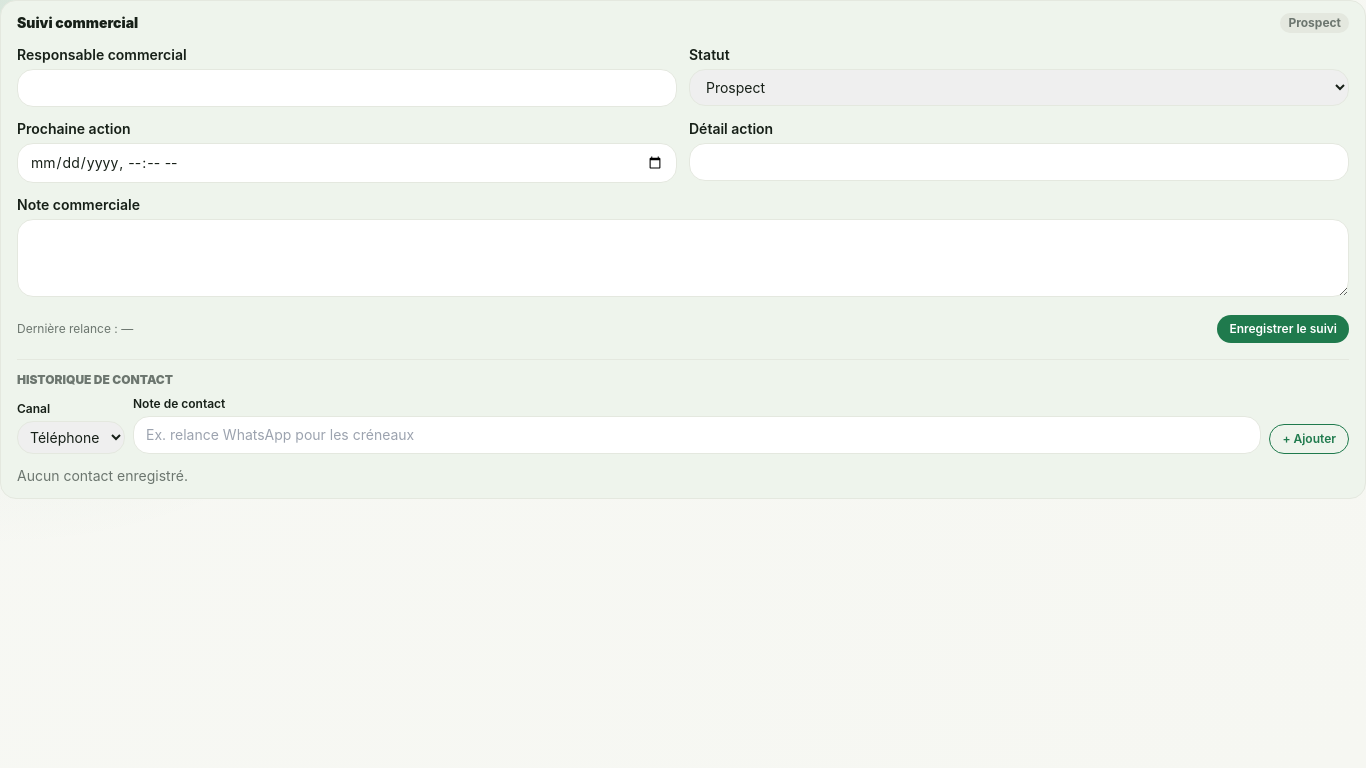
Test: MerchantCrmSection › ajoute un contact et met à jour l’historique depuis la réponse
The image size is (1366, 768).
Select "WhatsApp" in the dropdown labelled "Canal" at (71, 438), box left=17, top=421, right=125, bottom=454
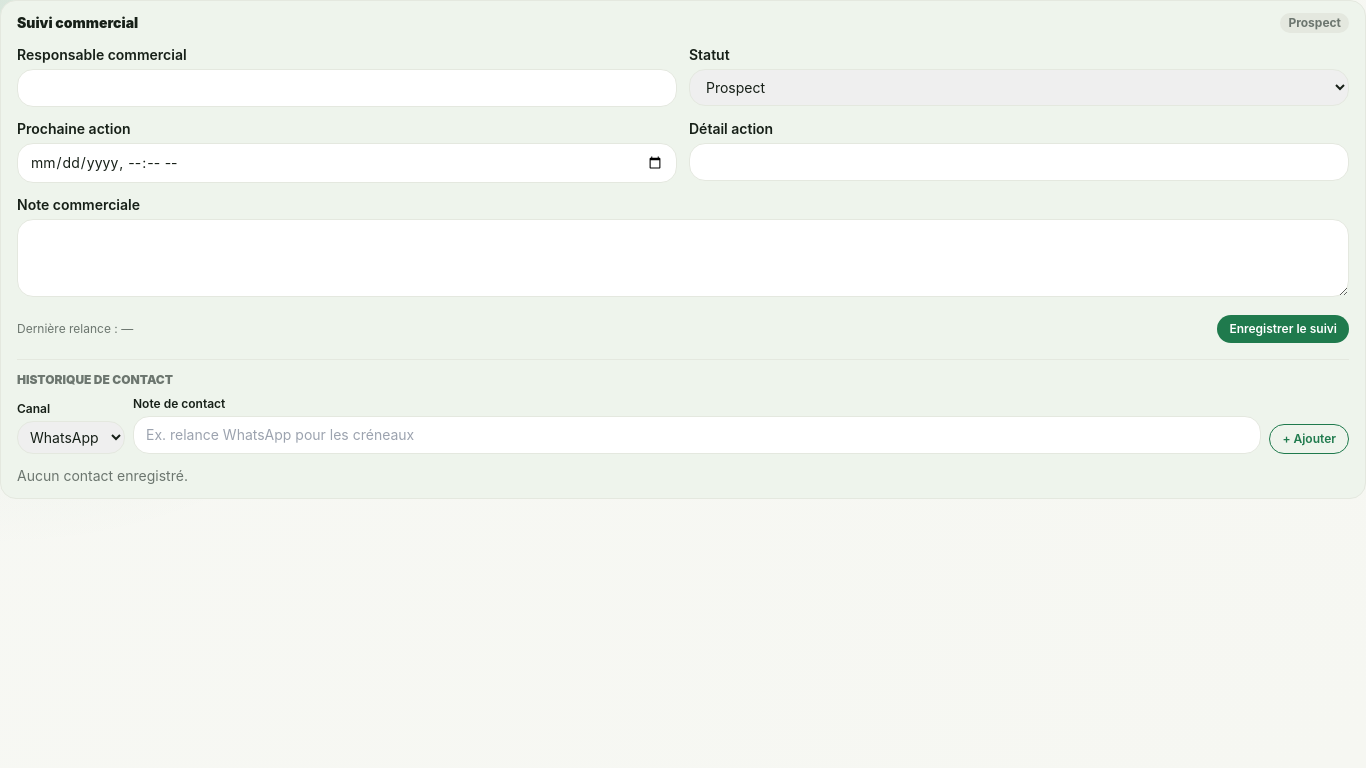
Type "Relance pour activer les créneaux." into the field labelled "Note de contact" at (697, 435), box left=133, top=416, right=1261, bottom=454
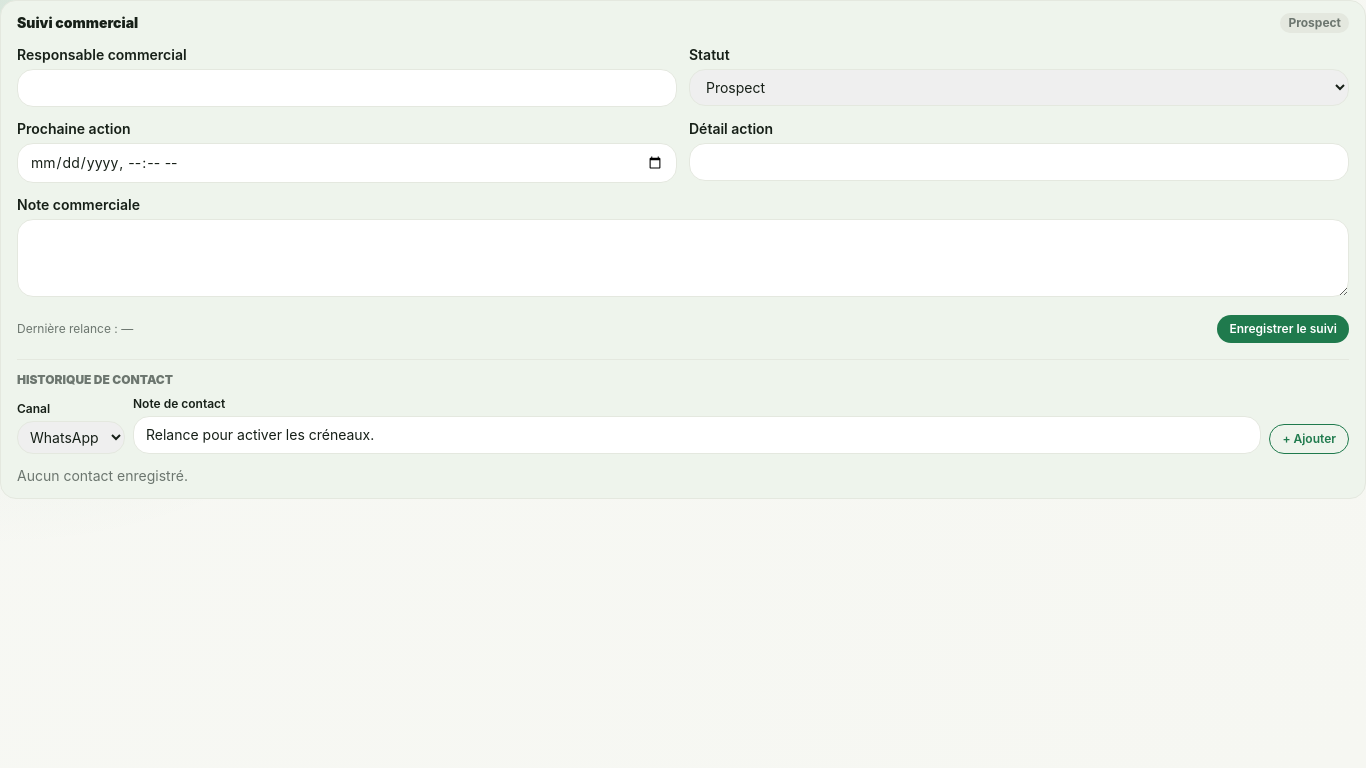
Click the button "+ Ajouter" at (1309, 439), box left=1269, top=424, right=1349, bottom=454
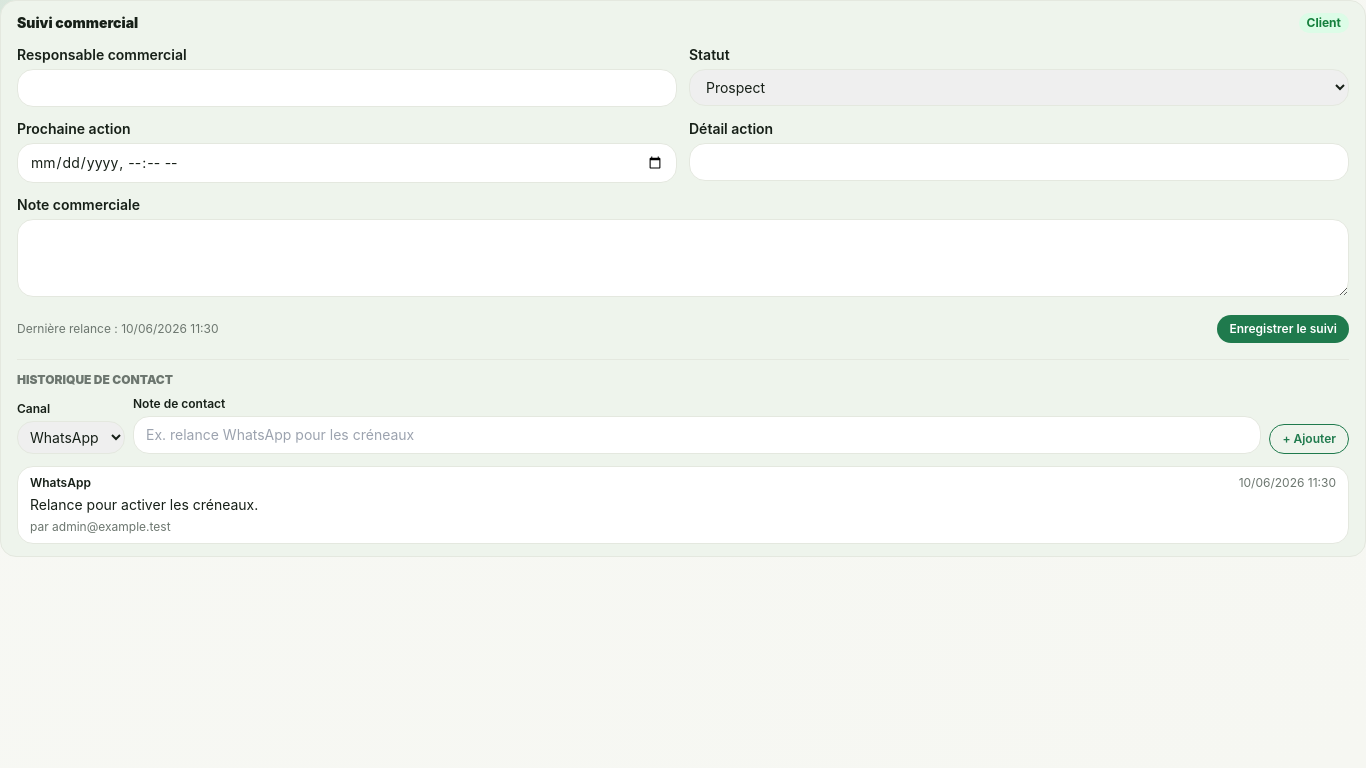
Expected: the text "Relance pour activer les créneaux." is shown, left=30, top=496, right=258, bottom=513
Expected: the text "par admin@example.test" is shown, left=30, top=519, right=171, bottom=534
